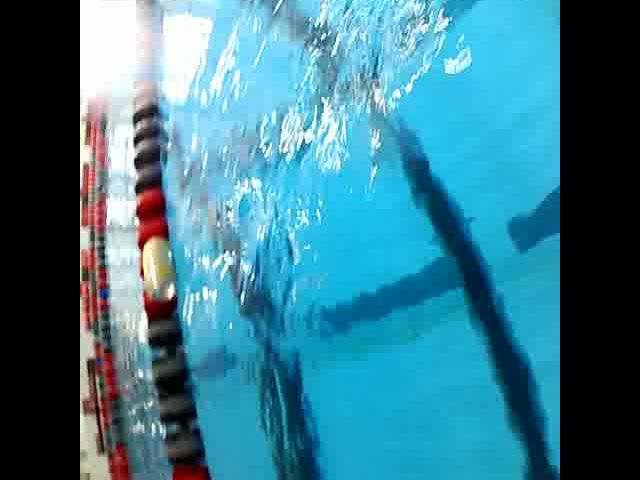Can: (142, 230, 179, 302)
